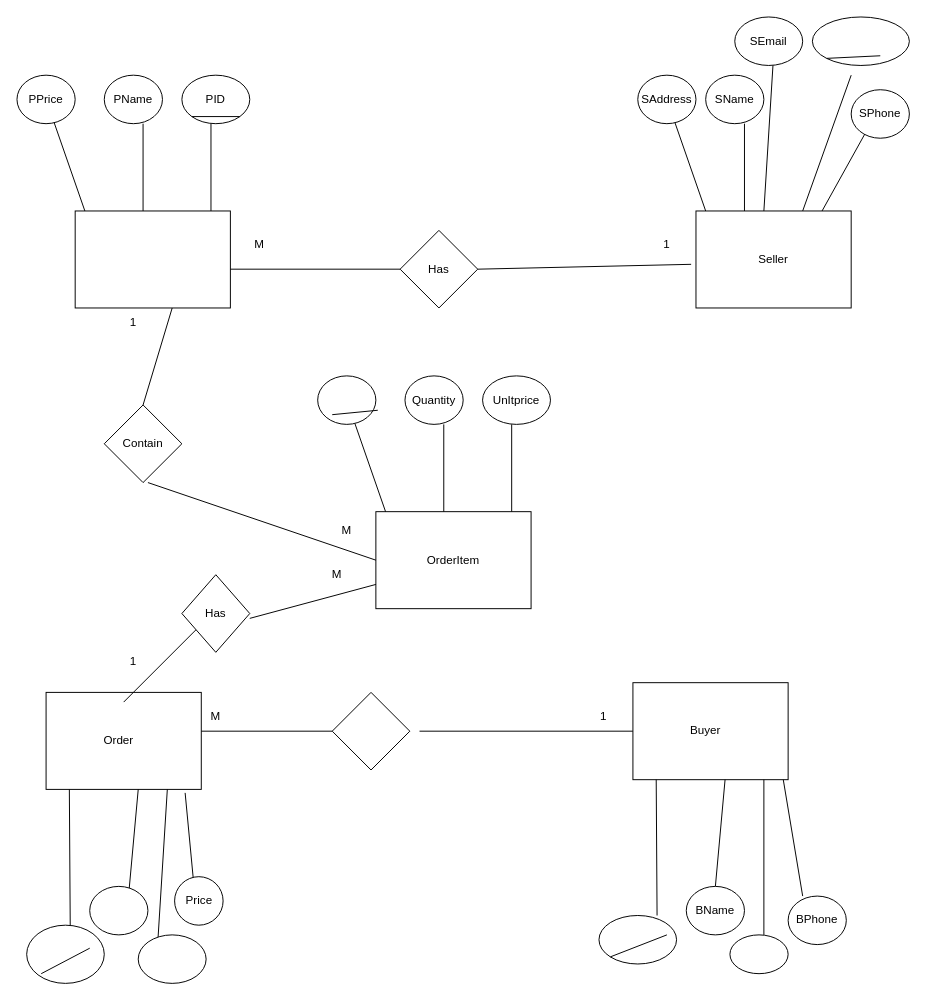
This 926x1001 diagram has some shape labels left out. Here are the shapes that lost their labels. From the top down, the box of each, then its label:
(811, 16, 909, 65): SID
(74, 210, 230, 308): Product
(317, 375, 376, 424): ID
(331, 691, 410, 770): Request
(89, 885, 148, 935): ODate
(26, 924, 104, 983): OID
(137, 934, 206, 983): Ostatus
(598, 915, 677, 964): BID
(729, 934, 788, 974): BEmail
